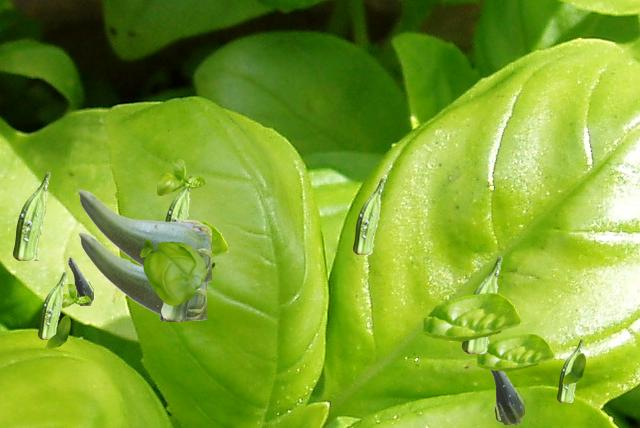okra: (77, 189, 210, 281), (78, 232, 205, 319), (462, 256, 501, 352), (13, 172, 49, 259), (353, 178, 383, 253), (38, 272, 65, 338), (490, 371, 523, 423), (557, 339, 582, 401), (67, 255, 92, 304), (165, 175, 192, 220), (161, 301, 189, 320)
